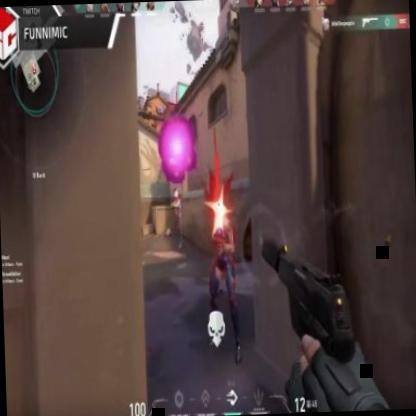enemy: (171, 188, 183, 249)
enemy_head: (173, 188, 179, 199)
